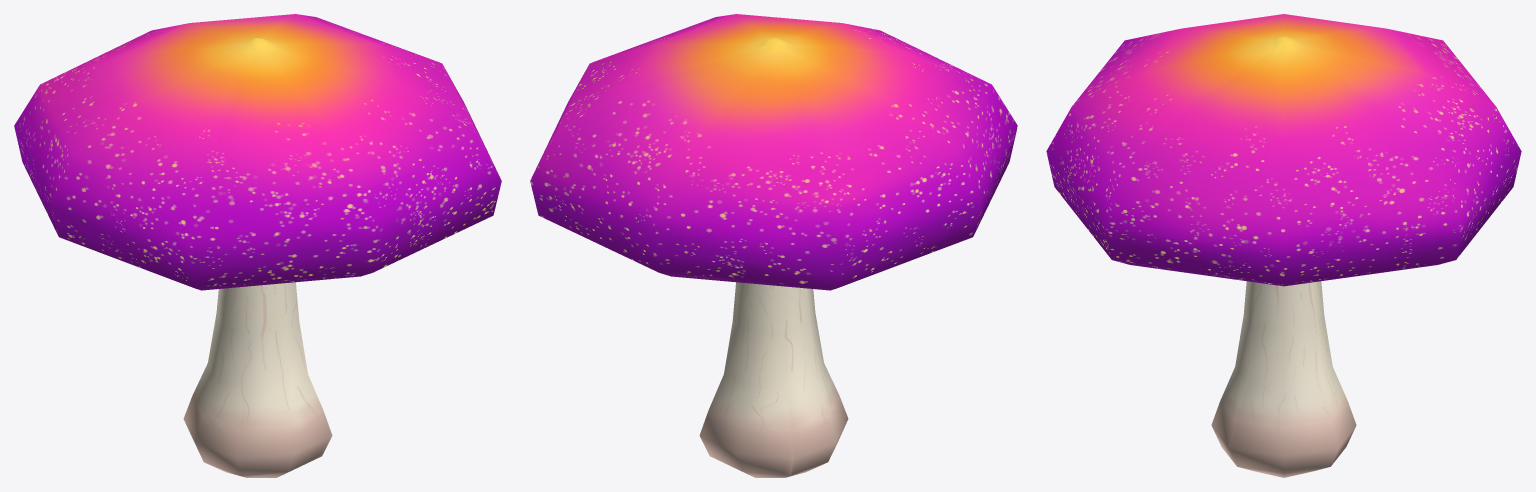
File: grzyb.glb
3 renders of one model, left to right at view 1: azimuth 30°, elevation 25°; view 2: azimuth 150°, elevation 25°; view 3: azimuth 270°, elevation 25°, orthographic.
Parts seen in each view (by area): view 1: Object_3; view 2: Object_3; view 3: Object_3.
Boxes of the visible parts, x1,y1,x2,y2 form: Object_3: (14, 14, 501, 477); Object_3: (530, 14, 1017, 477); Object_3: (1046, 14, 1521, 477).
Bounding box in the file's own units: 1 × 1 × 1.
Materials: 2 (2 with a texture image).
